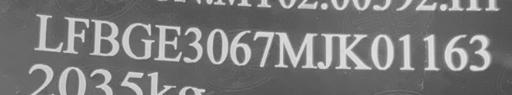letter: (274, 30, 318, 69), (334, 30, 372, 71), (88, 15, 120, 60), (122, 19, 154, 62), (152, 23, 182, 64), (62, 14, 90, 57), (442, 31, 468, 74), (369, 31, 395, 74), (34, 13, 62, 52), (181, 25, 205, 64), (468, 33, 492, 72), (230, 27, 252, 66), (422, 33, 444, 72), (206, 27, 228, 64), (252, 30, 274, 67), (397, 33, 417, 72), (316, 31, 334, 68)
